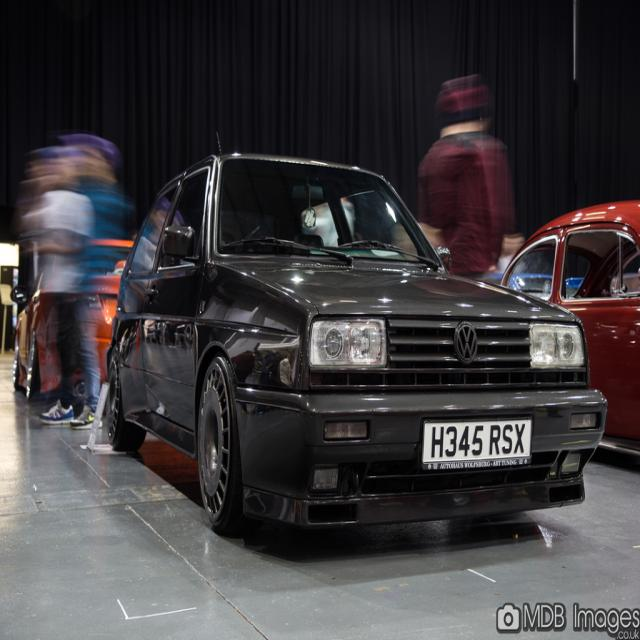car: (104, 131, 609, 531)
